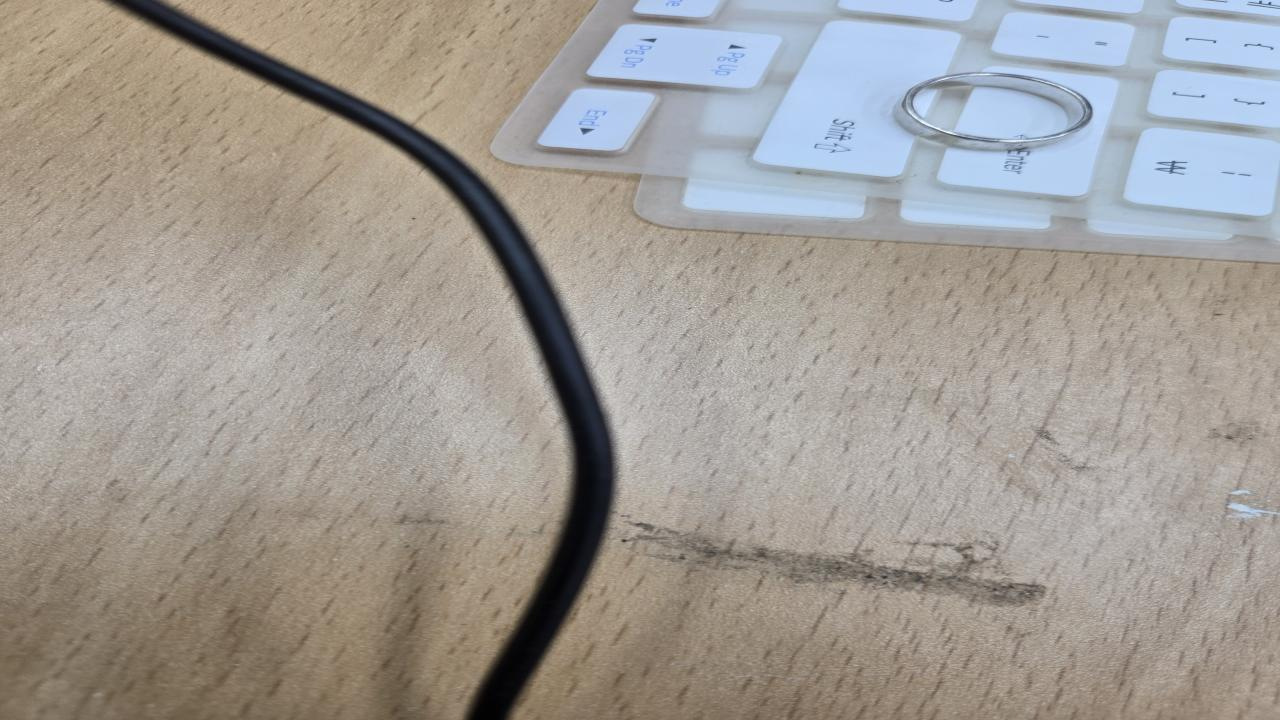ring: (892, 72, 1094, 152)
